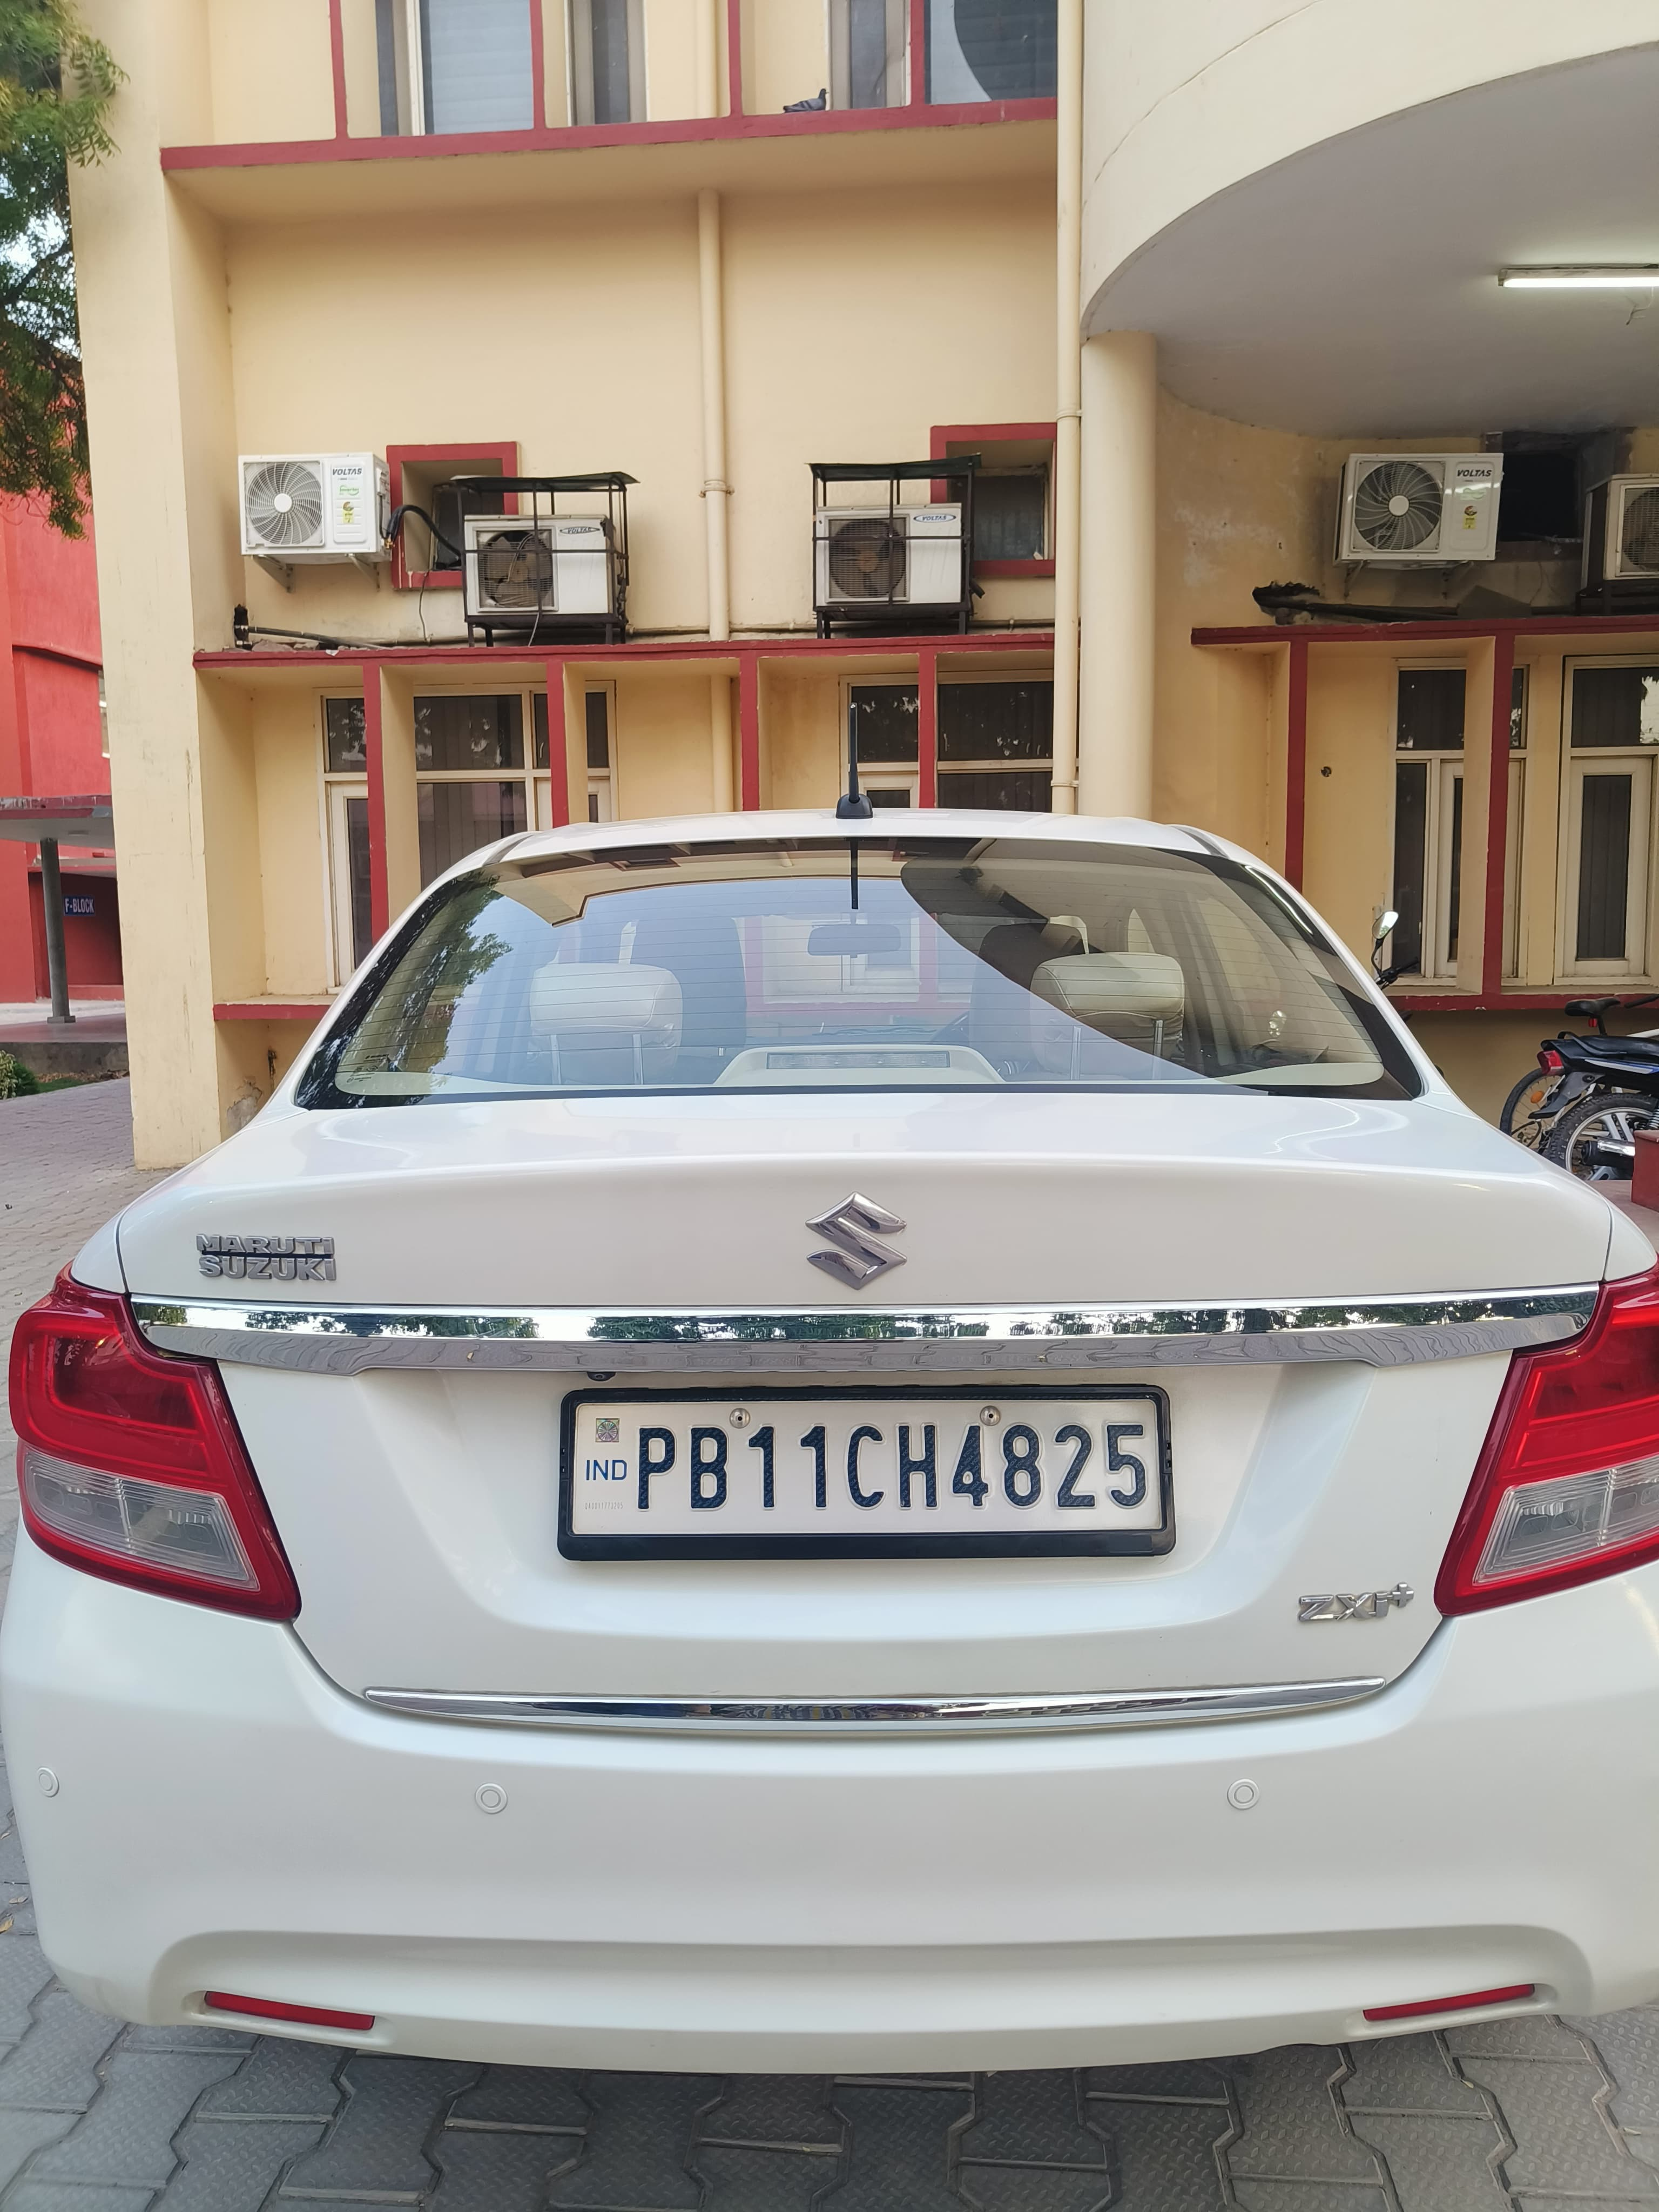license plate: (559, 1387, 1174, 1559)
